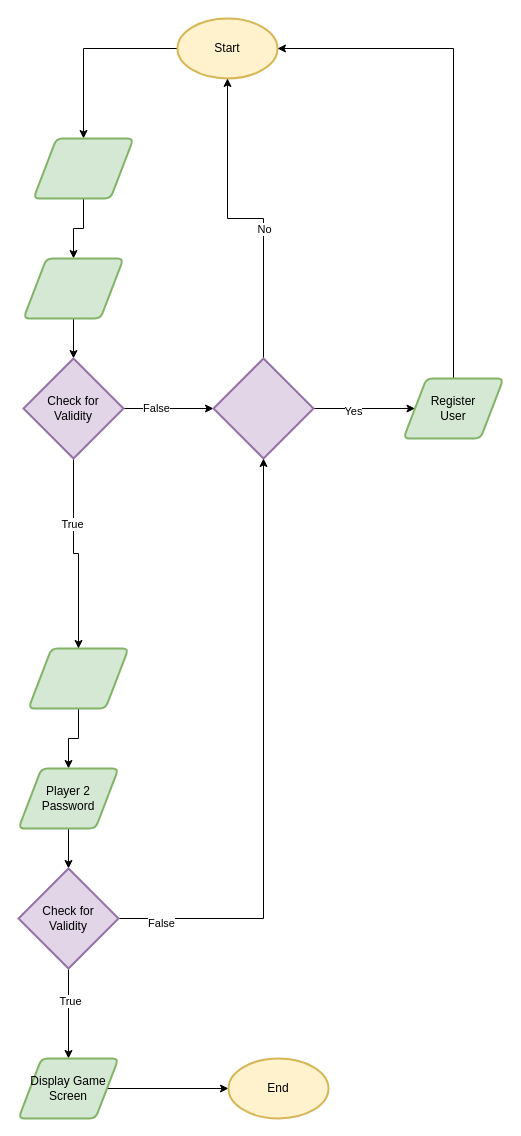
Some shapes in this 521 by 1136 pixel diagram are drawn without their labels. The centre of each missing label's shape, as x and y in pixels:
Do you want to Register?: point (263, 408)
Player 1 Password: point (73, 288)
Player 1 Username: point (83, 168)
Player 2 Username: point (78, 678)
